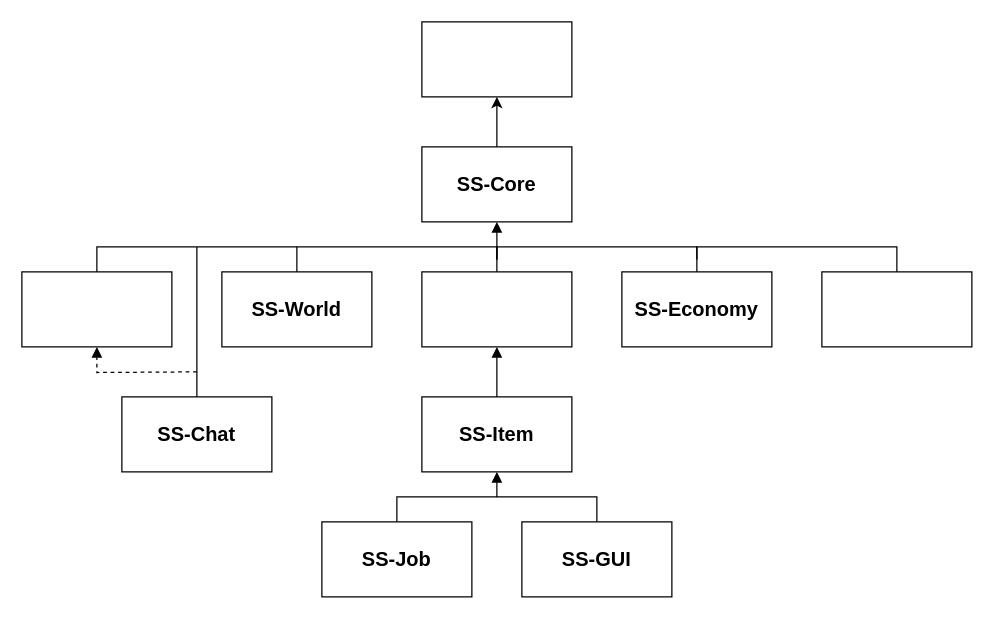
Some shapes in this 994 by 619 pixel diagram are drawn without their labels. Each missing label, with the centre of its shape:
"SS-Battle" goes at [496,309].
"SS-Discord" goes at [96,309].
"SS-Kotlin" goes at [496,59].
"SS-Votifier" goes at [896,309].
